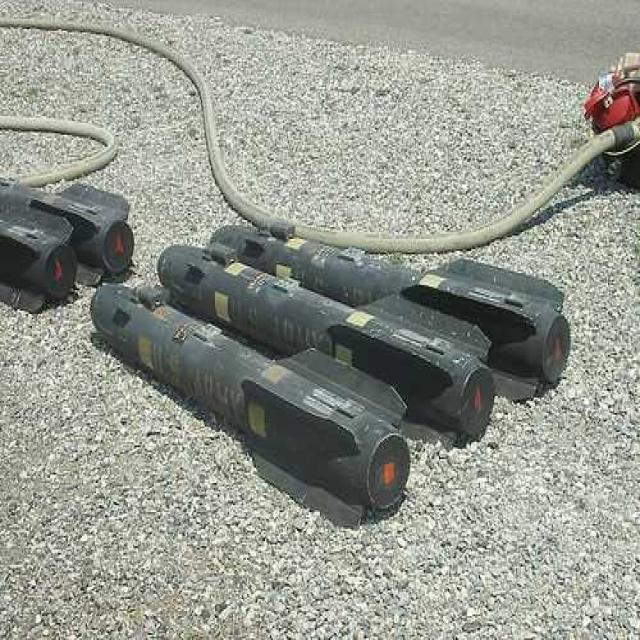missile: (99, 282, 406, 530), (153, 236, 504, 442), (220, 223, 581, 402)
